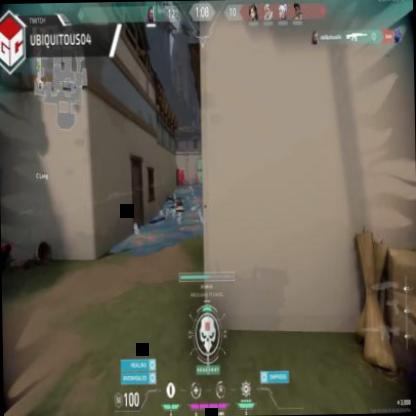enemy: (181, 166, 187, 186), (178, 167, 182, 186), (194, 170, 198, 183)
enemy_head: (179, 168, 181, 172), (182, 168, 184, 172), (195, 170, 197, 174)
